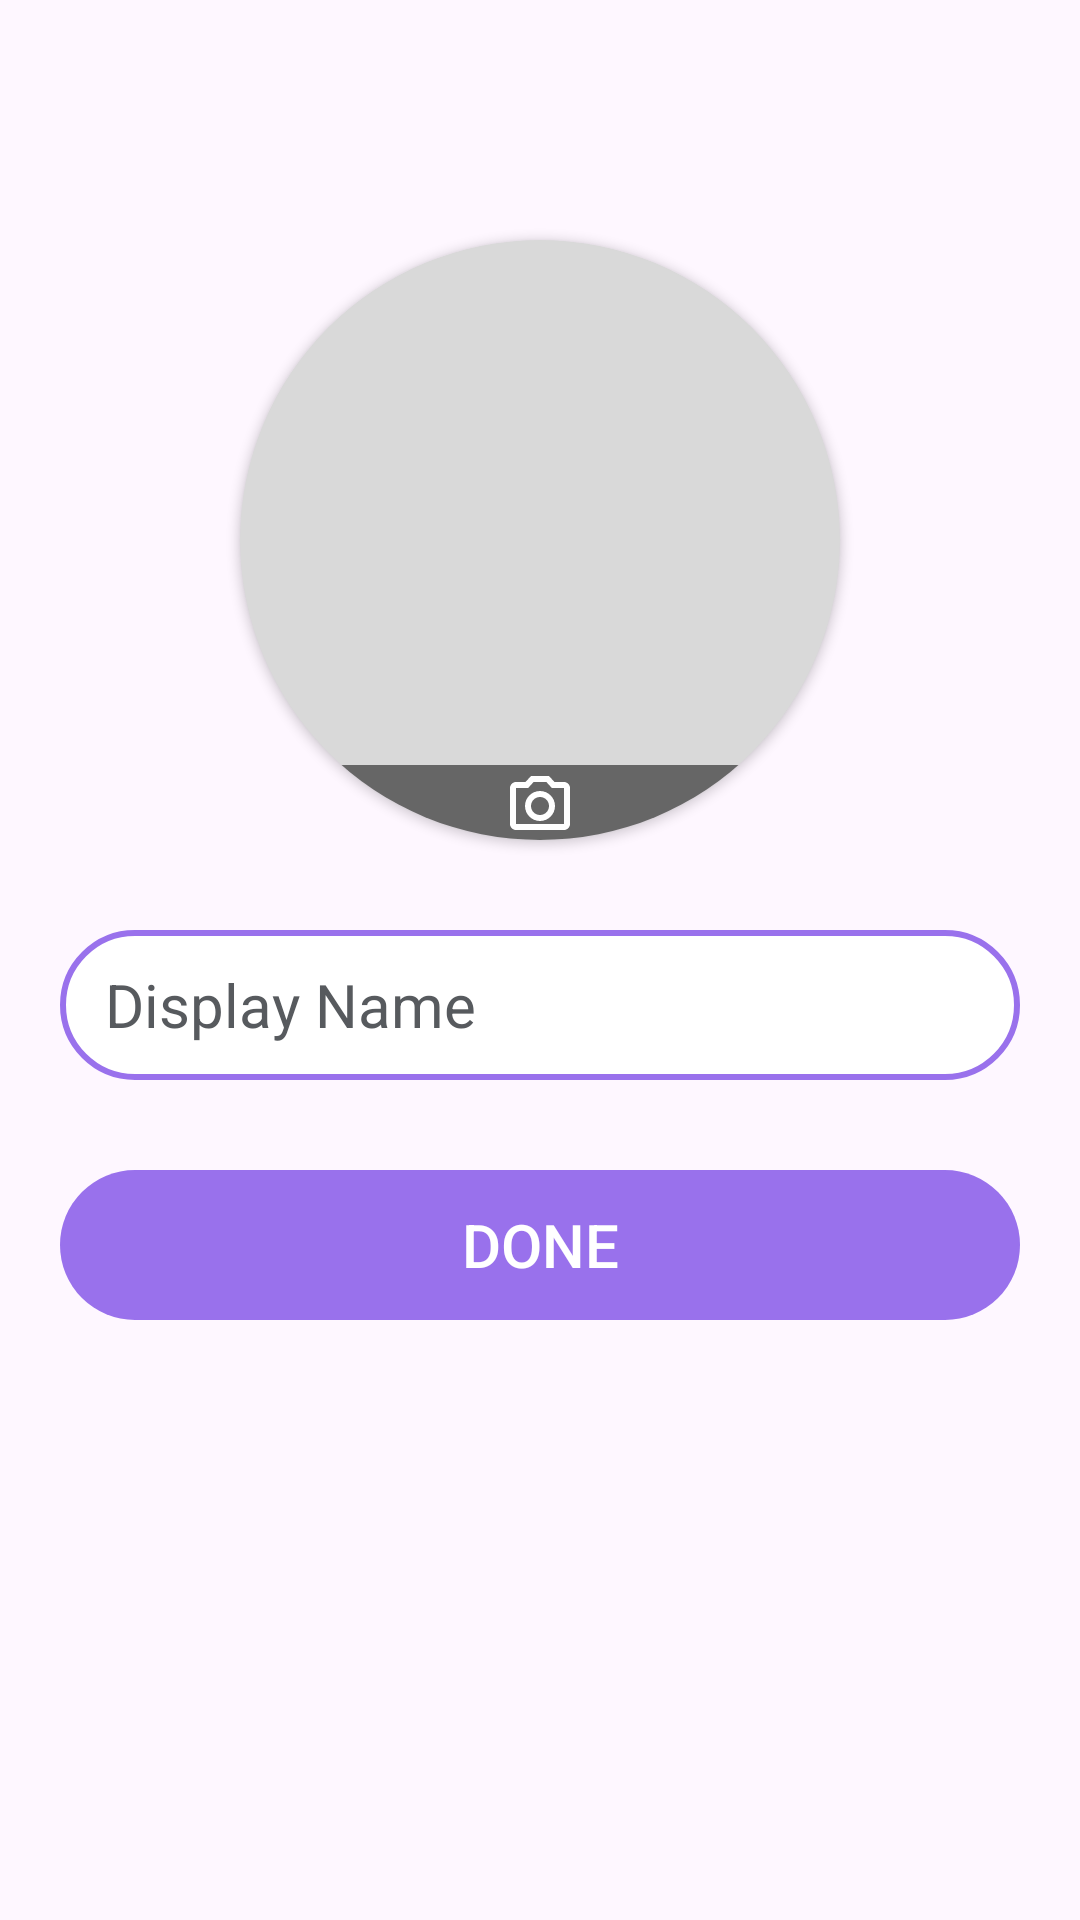

Screen size 1080*1920. Icon name, then its box in pixels as (x1, y1, x2, y2):
camera: (510, 776, 570, 830)
